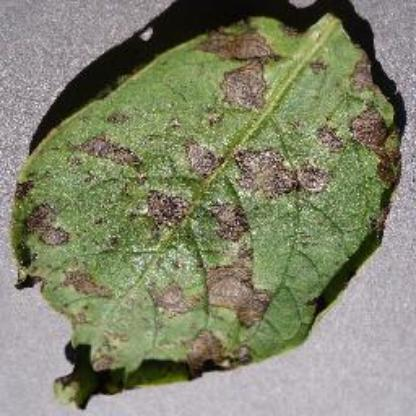Early-Blight: (12, 16, 404, 404)
